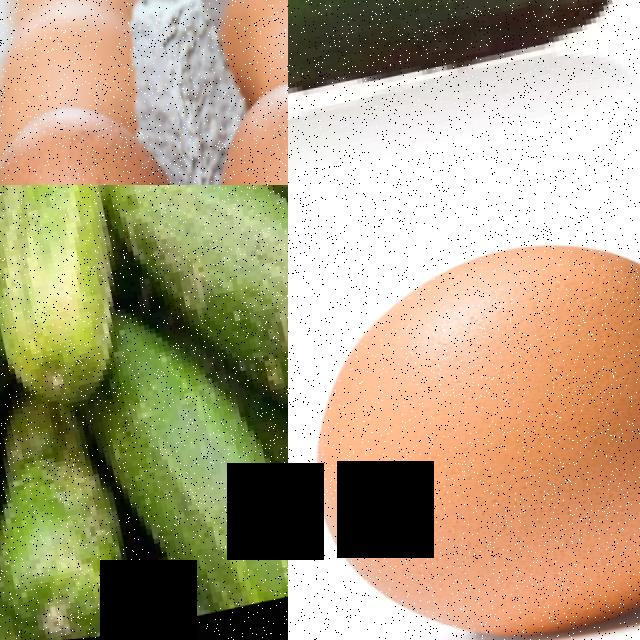cucumber: (84, 345, 288, 631), (288, 0, 640, 141), (95, 185, 288, 396), (0, 185, 142, 417), (0, 420, 130, 640)
egg_: (288, 201, 640, 640), (0, 0, 143, 156), (0, 87, 211, 185), (177, 64, 288, 185), (198, 0, 288, 114)
